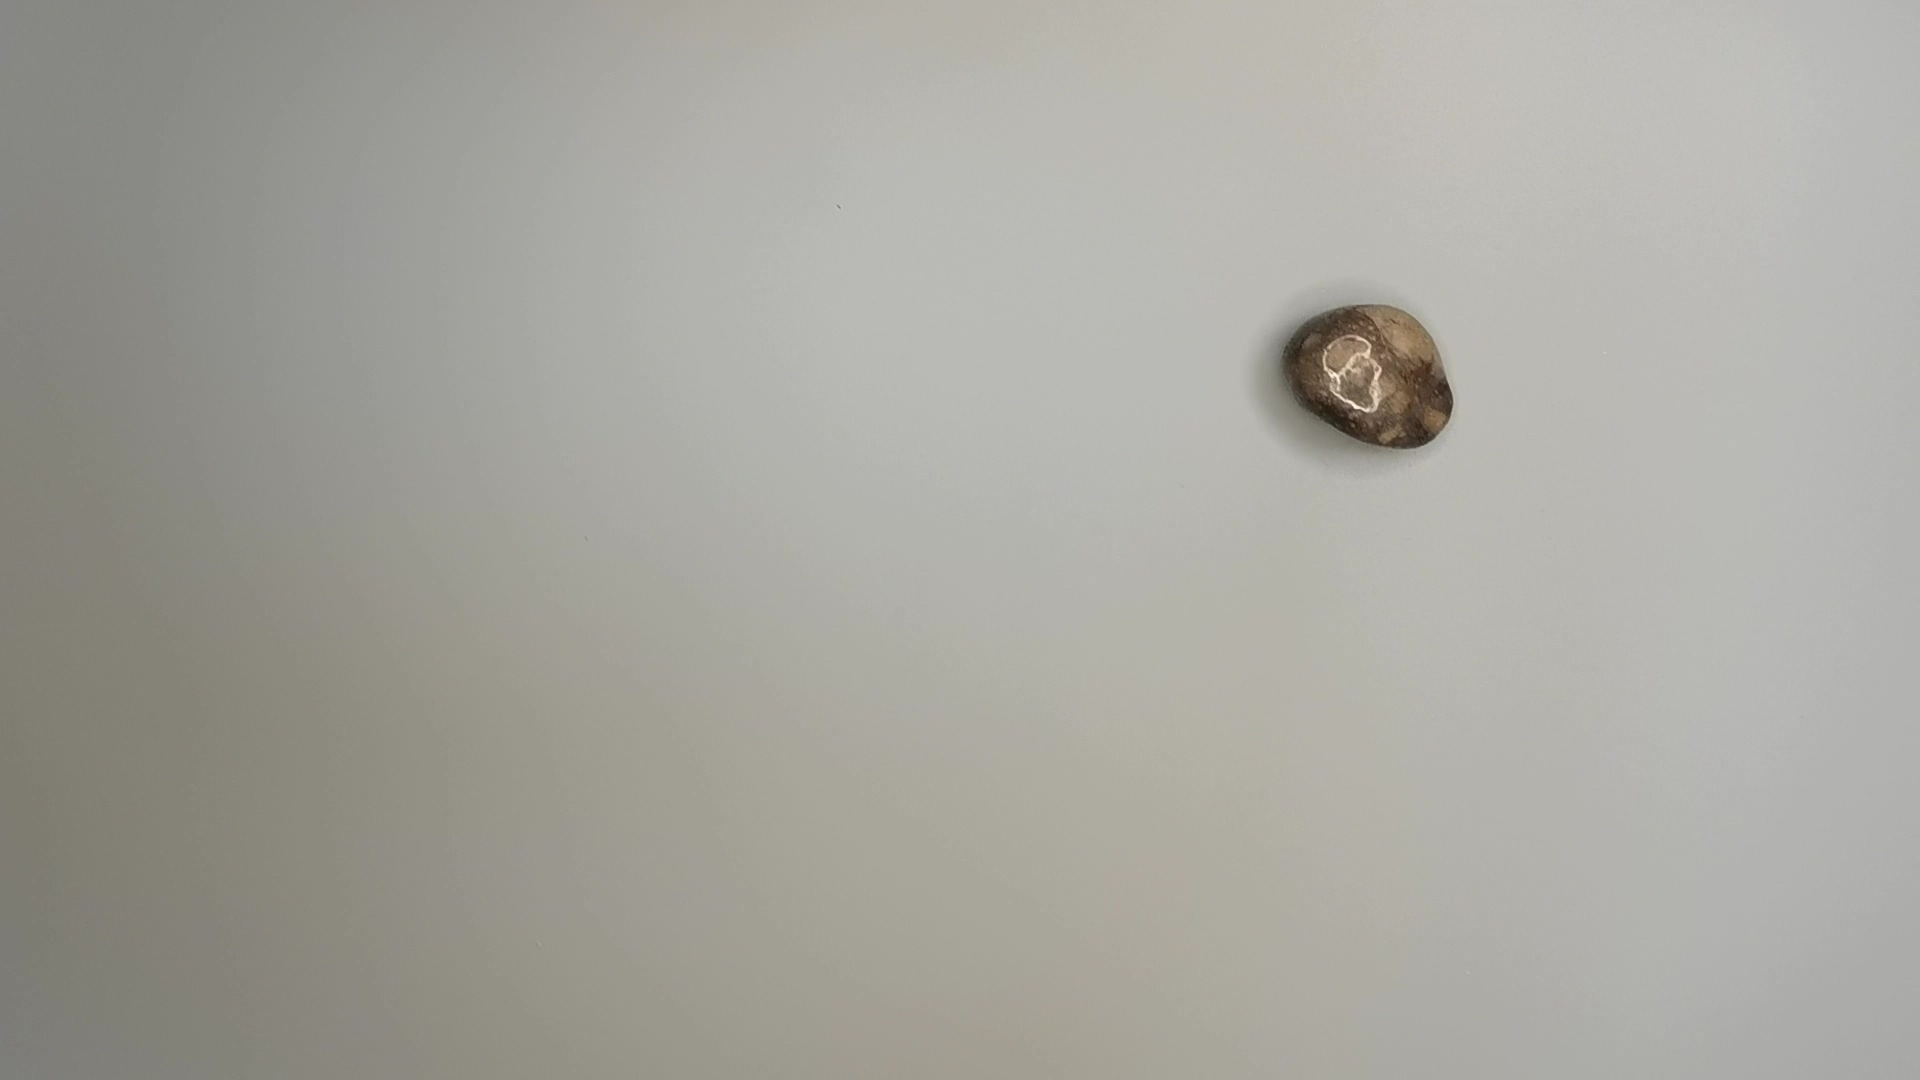ceramic: (1284, 301, 1462, 450)
